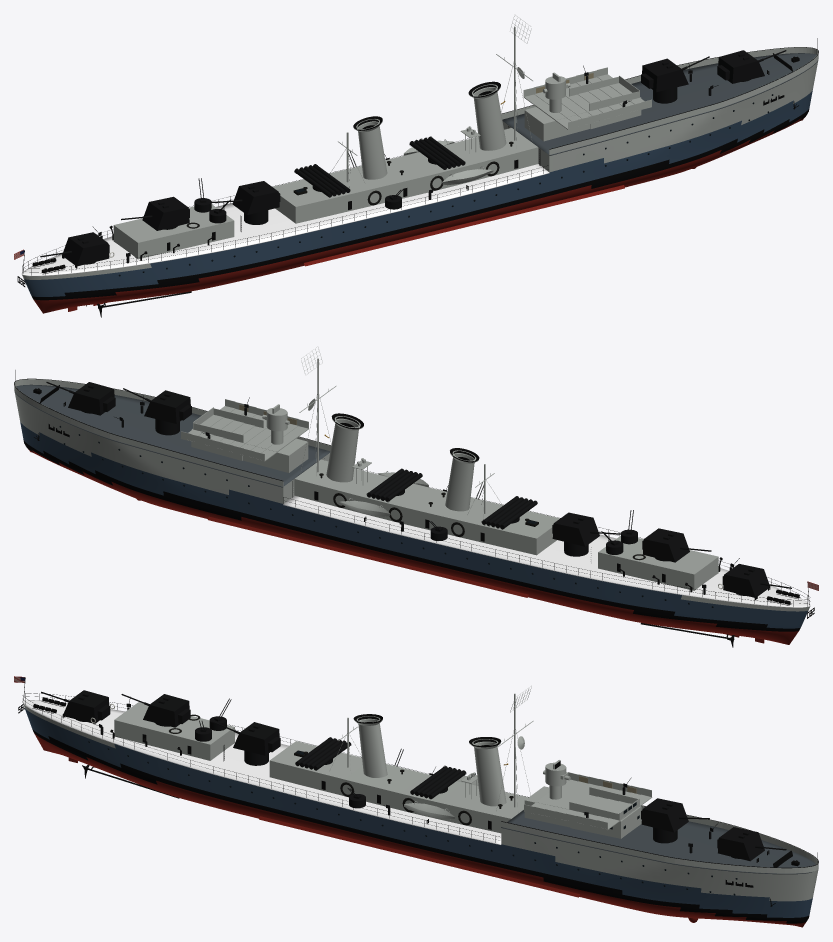
File: DD560_Fletcher.glb
3 views of the same model, one above another, from view 1: azimuth 30°, elevation 25°; view 2: azimuth 150°, elevation 25°; view 3: azimuth 330°, elevation 25° (orthographic).
Parts seen in each view (by area): view 1: DD560_Hull_Shell, DD560_Deckhouse_Mid, DD560_Deck_Main, DD560_Deck_Forecastle, DD560_OpenBridge, DD560_Deckhouse_Aft, DD560_Bulwark_Forecastle, DD560_Funnel_Fwd, DD560_Gun53_5in38, DD560_Gun52_5in38, DD560_BilgeKeels, DD560_Funnel_Aft (+9 smaller); view 2: DD560_Hull_Shell, DD560_Deckhouse_Mid, DD560_Deck_Main, DD560_Deck_Forecastle, DD560_OpenBridge, DD560_Deckhouse_Aft, DD560_Bulwark_Forecastle, DD560_Funnel_Fwd, DD560_Gun52_5in38, DD560_Gun53_5in38, DD560_BilgeKeels, DD560_Funnel_Aft (+9 smaller); view 3: DD560_Hull_Shell, DD560_Deckhouse_Mid, DD560_Deck_Main, DD560_Deck_Forecastle, DD560_OpenBridge, DD560_Deckhouse_Aft, DD560_Bulwark_Forecastle, DD560_Funnel_Fwd, DD560_Gun52_5in38, DD560_Gun53_5in38, DD560_BilgeKeels, DD560_Funnel_Aft (+13 smaller).
Part boxes in pixels (bbox=[...]): DD560_Hull_Shell: bbox=[22, 60, 818, 313]; DD560_Deckhouse_Mid: bbox=[272, 128, 538, 223]; DD560_Deck_Main: bbox=[22, 164, 549, 276]; DD560_Deck_Forecastle: bbox=[502, 53, 817, 155]; DD560_OpenBridge: bbox=[523, 67, 651, 129]; DD560_Deckhouse_Aft: bbox=[113, 204, 234, 259]; DD560_Bulwark_Forecastle: bbox=[501, 47, 818, 154]; DD560_Funnel_Fwd: bbox=[469, 84, 506, 150]; DD560_Gun53_5in38: bbox=[211, 181, 280, 224]; DD560_Gun52_5in38: bbox=[641, 56, 709, 103]; DD560_BilgeKeels: bbox=[304, 185, 624, 266]; DD560_Funnel_Aft: bbox=[354, 119, 387, 179]; DD560_Hull_Shell: bbox=[14, 392, 810, 644]; DD560_Deckhouse_Mid: bbox=[294, 459, 559, 555]; DD560_Deck_Main: bbox=[283, 495, 810, 607]; DD560_Deck_Forecastle: bbox=[15, 384, 330, 487]; DD560_OpenBridge: bbox=[180, 399, 308, 461]; DD560_Deckhouse_Aft: bbox=[598, 536, 718, 590]; DD560_Bulwark_Forecastle: bbox=[14, 379, 331, 486]; DD560_Funnel_Fwd: bbox=[326, 416, 363, 482]; DD560_Gun52_5in38: bbox=[123, 388, 191, 435]; DD560_Gun53_5in38: bbox=[552, 512, 621, 556]; DD560_BilgeKeels: bbox=[207, 516, 528, 597]; DD560_Funnel_Aft: bbox=[445, 450, 478, 511]; DD560_Hull_Shell: bbox=[23, 703, 818, 927]; DD560_Deckhouse_Mid: bbox=[269, 741, 528, 833]; DD560_Deck_Main: bbox=[22, 700, 501, 844]; DD560_Deck_Forecastle: bbox=[501, 810, 816, 874]; DD560_OpenBridge: bbox=[524, 772, 652, 829]; DD560_Deckhouse_Aft: bbox=[114, 702, 234, 760]; DD560_Bulwark_Forecastle: bbox=[501, 786, 818, 873]; DD560_Funnel_Fwd: bbox=[469, 739, 506, 806]; DD560_Gun52_5in38: bbox=[641, 798, 709, 843]; DD560_Gun53_5in38: bbox=[211, 721, 280, 765]; DD560_BilgeKeels: bbox=[259, 816, 579, 897]; DD560_Funnel_Aft: bbox=[354, 716, 387, 777].
Bounding box in the file's own units: 116 × 26.15 × 13.47.
